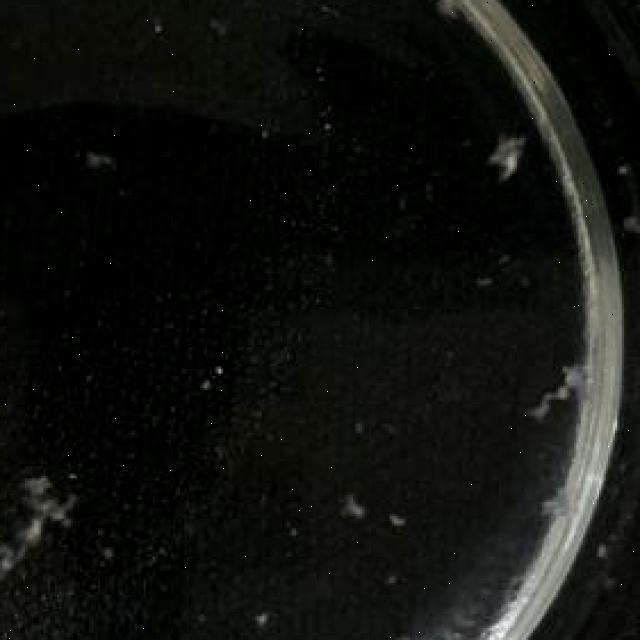Microplastic: (0, 471, 80, 585), (533, 357, 615, 431), (474, 126, 542, 195), (537, 478, 581, 519)
